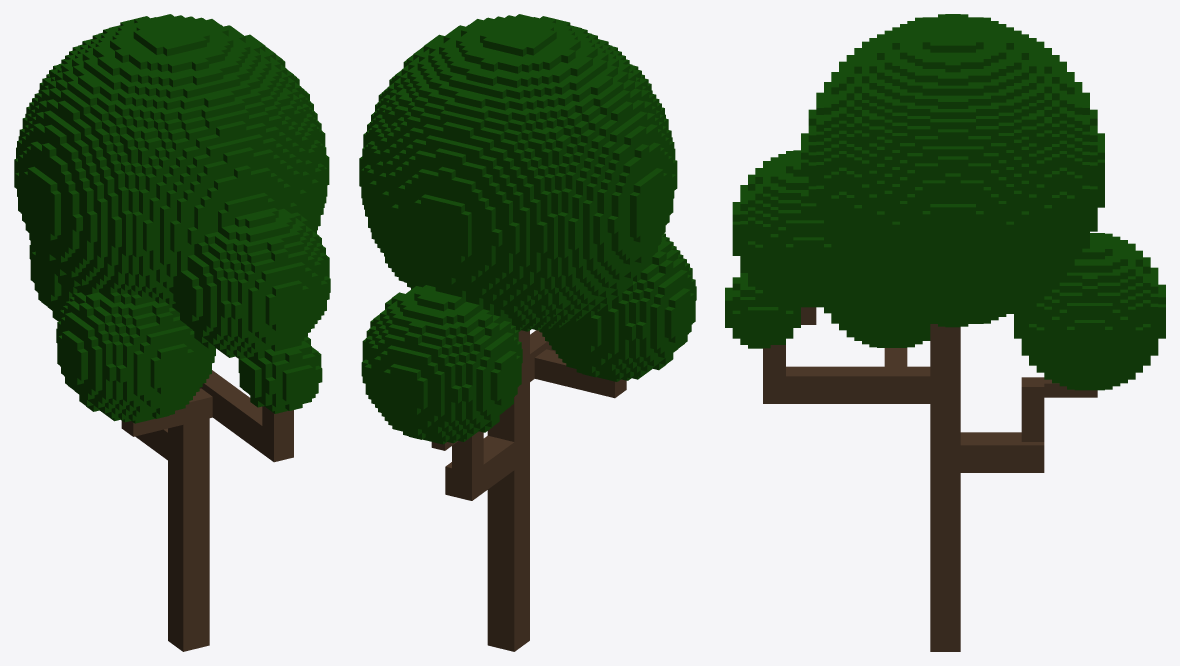
Rendered from Tree2.obj.
3 views of the same model, side by side, from view 1: azimuth 30°, elevation 25°; view 2: azimuth 150°, elevation 25°; view 3: azimuth 270°, elevation 25° (orthographic).
Bounding box in the file's own units: 4 × 8.8 × 5.8.
1 material, 1 textured.
